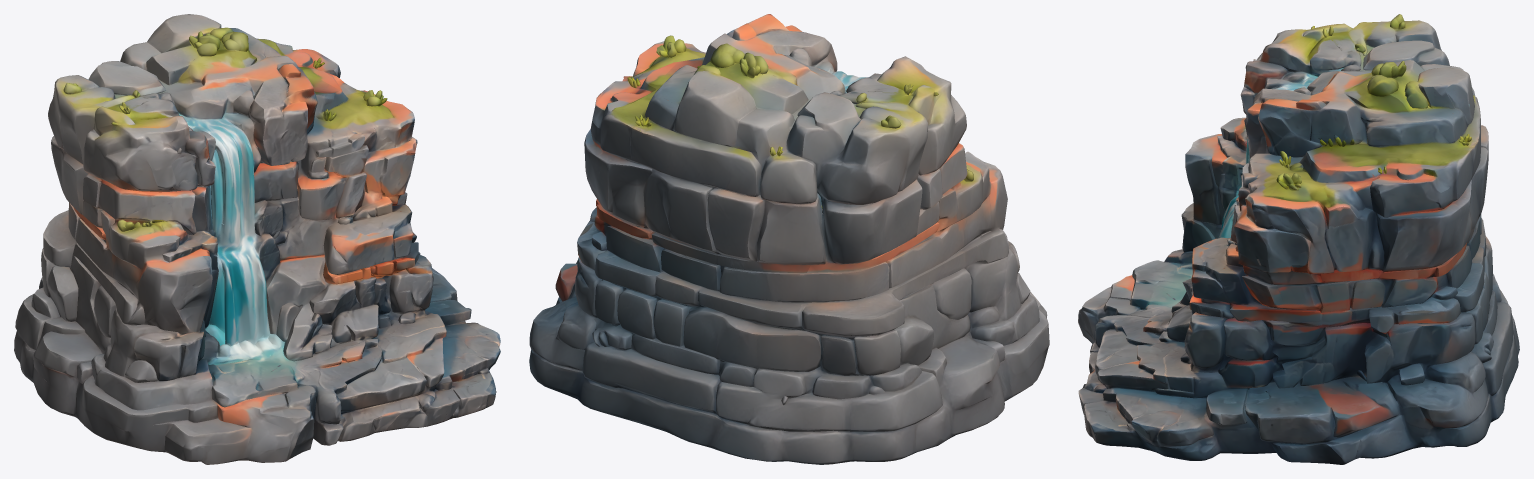
The model's file is cliff-cartoon-desktop-decimated.glb.
3 renders of one model, left to right at view 1: azimuth 30°, elevation 25°; view 2: azimuth 150°, elevation 25°; view 3: azimuth 270°, elevation 25°, orthographic. The views are drawn at different scales.
Parts seen in each view (by area): view 1: model; view 2: model; view 3: model.
Boxes of the visible parts, left/top/right/bottom form: model: left=14, top=14, right=500, bottom=464; model: left=529, top=14, right=1049, bottom=464; model: left=1078, top=14, right=1519, bottom=464.
Bounding box in the file's own units: 1.9 × 1.43 × 1.82.
1 material, 1 textured.
